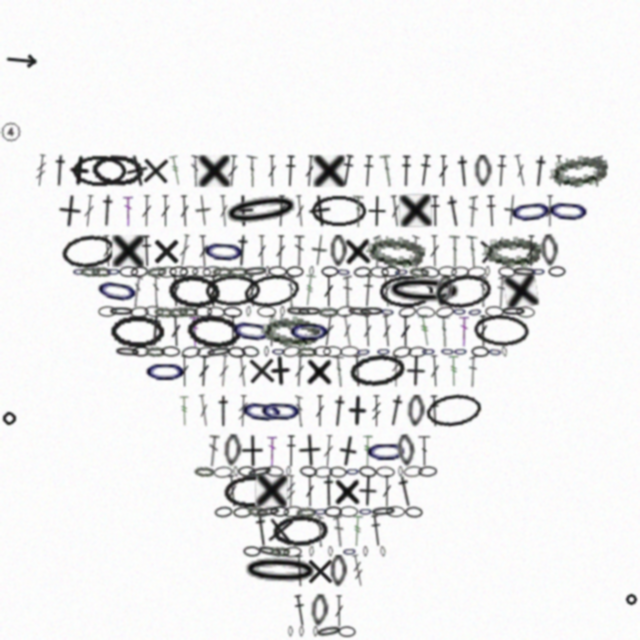chain: (220, 189, 303, 232), (240, 554, 321, 588), (384, 274, 465, 308), (547, 150, 610, 191), (434, 271, 494, 311), (242, 271, 301, 311), (424, 391, 483, 430), (348, 351, 406, 390), (365, 233, 426, 269), (185, 312, 242, 350), (60, 232, 117, 270), (482, 234, 542, 268), (473, 313, 530, 348), (167, 273, 222, 309), (261, 314, 320, 347), (223, 474, 280, 508), (204, 274, 262, 307), (93, 271, 142, 310), (272, 514, 328, 548), (91, 153, 145, 188), (228, 312, 276, 349), (311, 195, 366, 227), (238, 393, 286, 429), (110, 315, 164, 347), (379, 275, 433, 307), (507, 193, 555, 229), (72, 155, 126, 187), (545, 193, 592, 228), (201, 234, 247, 268), (258, 394, 304, 427), (364, 435, 409, 467), (143, 355, 188, 387), (287, 315, 332, 347), (433, 274, 455, 308), (396, 434, 416, 467), (310, 594, 329, 627), (223, 434, 242, 467), (540, 234, 559, 267), (407, 395, 425, 427), (474, 155, 492, 187), (330, 555, 347, 587), (330, 235, 347, 267), (246, 464, 274, 480), (315, 624, 343, 639), (256, 544, 284, 559), (254, 505, 282, 519), (205, 345, 233, 359), (346, 305, 374, 319), (370, 505, 397, 518), (285, 305, 312, 318), (242, 265, 269, 278), (114, 346, 141, 358), (511, 266, 538, 278), (108, 306, 135, 317), (296, 306, 323, 317), (358, 306, 385, 317), (500, 306, 527, 317), (181, 345, 201, 359), (392, 345, 412, 359), (435, 305, 455, 319), (420, 265, 440, 279), (247, 505, 268, 518), (146, 265, 167, 278), (398, 305, 417, 319), (283, 505, 303, 518), (403, 465, 423, 478), (144, 305, 164, 318), (179, 265, 199, 278), (202, 265, 222, 278), (265, 465, 284, 478), (299, 465, 318, 478), (358, 465, 377, 478), (241, 345, 260, 358), (282, 345, 301, 358), (336, 305, 355, 318), (130, 265, 149, 278), (296, 506, 316, 518), (213, 466, 233, 478), (154, 306, 174, 318), (168, 306, 188, 318), (318, 306, 338, 318), (409, 266, 429, 278), (283, 546, 302, 558), (214, 506, 233, 518), (233, 506, 252, 518), (314, 466, 333, 478), (376, 466, 395, 478), (196, 346, 215, 358), (227, 346, 246, 358), (408, 346, 427, 358), (130, 306, 149, 318), (223, 306, 242, 318), (416, 306, 435, 318), (516, 306, 535, 318), (158, 266, 177, 278), (192, 266, 211, 278), (353, 266, 372, 278), (370, 266, 389, 278), (467, 266, 486, 278), (270, 546, 290, 557), (194, 466, 214, 477), (145, 346, 165, 357), (297, 346, 317, 357), (178, 306, 198, 317), (80, 266, 100, 277), (91, 266, 111, 277), (212, 266, 232, 277), (228, 266, 248, 277), (405, 506, 423, 518), (329, 466, 347, 478), (207, 306, 225, 318), (451, 266, 469, 278), (498, 266, 516, 278), (270, 506, 289, 517), (339, 506, 358, 517), (386, 506, 405, 517), (418, 466, 437, 477), (161, 346, 180, 357), (323, 346, 342, 357), (340, 346, 359, 357), (98, 306, 117, 317), (257, 306, 276, 317), (485, 306, 504, 317), (119, 266, 138, 277), (169, 266, 188, 277), (268, 266, 287, 277), (381, 266, 400, 277), (438, 266, 457, 277), (338, 626, 356, 637), (243, 546, 261, 557), (324, 506, 342, 517), (238, 466, 256, 477), (132, 346, 150, 357), (313, 346, 331, 357), (471, 346, 489, 357), (194, 306, 212, 317), (286, 266, 304, 277), (321, 266, 339, 277), (548, 266, 566, 277), (487, 346, 503, 358), (467, 306, 483, 318), (356, 346, 371, 358), (380, 306, 395, 318), (336, 266, 351, 278), (394, 266, 409, 278), (342, 546, 357, 557), (313, 506, 328, 517), (358, 506, 373, 517), (345, 466, 360, 477), (271, 346, 286, 357), (376, 346, 391, 357), (421, 346, 436, 357), (440, 346, 455, 357), (453, 346, 468, 357), (452, 306, 467, 317), (72, 266, 87, 277), (106, 266, 121, 277), (531, 266, 546, 277), (501, 346, 508, 357), (380, 546, 386, 557), (233, 466, 239, 477), (288, 626, 293, 637), (299, 626, 304, 637), (313, 626, 318, 637), (309, 546, 314, 557), (328, 546, 333, 557), (363, 546, 368, 557), (286, 466, 291, 477), (398, 466, 403, 477), (264, 346, 269, 357), (246, 306, 251, 317), (280, 306, 285, 317), (265, 266, 270, 277), (309, 266, 314, 277), (485, 266, 490, 277)
double: (512, 154, 529, 187), (321, 314, 336, 347), (340, 314, 355, 347), (177, 234, 192, 267), (379, 154, 394, 187), (197, 394, 211, 427), (332, 355, 346, 387), (82, 195, 96, 227), (226, 475, 239, 507), (207, 435, 220, 467), (322, 435, 335, 467), (418, 435, 431, 467), (236, 355, 249, 387), (380, 275, 393, 307), (101, 235, 114, 267), (197, 235, 210, 267), (466, 235, 479, 267), (351, 195, 364, 227), (389, 195, 402, 227), (226, 155, 239, 187), (333, 515, 345, 547), (198, 355, 210, 387), (218, 355, 230, 387), (429, 355, 441, 387), (170, 315, 182, 347), (381, 315, 393, 347), (438, 315, 450, 347), (131, 275, 143, 307), (246, 275, 258, 307), (448, 235, 460, 267), (218, 195, 230, 227), (275, 195, 287, 227), (294, 195, 306, 227), (246, 155, 258, 187), (304, 155, 316, 187), (179, 355, 190, 387), (294, 355, 305, 387), (189, 315, 200, 347), (266, 315, 277, 347), (362, 315, 373, 347), (400, 315, 411, 347), (170, 275, 181, 307), (208, 275, 219, 307), (323, 275, 334, 307), (275, 235, 286, 267), (294, 235, 305, 267), (429, 235, 440, 267), (141, 195, 152, 227), (160, 195, 171, 227), (179, 195, 190, 227), (438, 155, 449, 187), (554, 155, 565, 187), (334, 595, 344, 627), (305, 475, 315, 507), (382, 475, 392, 507), (267, 435, 277, 467), (315, 395, 325, 427), (459, 315, 469, 347), (478, 315, 488, 347), (257, 235, 267, 267), (526, 235, 536, 267), (123, 195, 133, 227), (468, 195, 478, 227), (545, 195, 555, 227), (190, 155, 200, 187), (267, 155, 277, 187), (593, 155, 603, 187), (295, 395, 304, 427), (343, 275, 352, 307), (497, 275, 506, 307), (316, 515, 324, 547), (469, 355, 477, 387), (152, 275, 160, 307), (287, 275, 295, 307), (479, 275, 487, 307), (373, 235, 381, 267), (412, 235, 420, 267)
half_double: (384, 393, 408, 428), (394, 474, 417, 508), (328, 394, 350, 428), (443, 194, 465, 228), (529, 154, 551, 188), (145, 314, 166, 347), (232, 234, 253, 267), (97, 194, 118, 227), (252, 514, 272, 547), (50, 154, 70, 187), (214, 395, 233, 427), (454, 155, 473, 187), (320, 475, 338, 507), (339, 154, 356, 187), (292, 594, 308, 627), (417, 154, 433, 187), (369, 514, 384, 547), (361, 275, 375, 307), (361, 155, 375, 187), (293, 555, 306, 587), (428, 395, 441, 427), (351, 355, 364, 387), (140, 235, 153, 267), (485, 195, 498, 227), (284, 155, 297, 187), (495, 155, 508, 187), (285, 435, 297, 467), (227, 315, 239, 347), (429, 195, 441, 227), (400, 155, 412, 187)
noise: (5, 53, 39, 68), (0, 120, 22, 143), (2, 411, 17, 426), (625, 593, 637, 605)
single: (330, 433, 366, 469), (503, 273, 539, 309), (263, 513, 298, 548), (62, 153, 97, 188), (475, 234, 509, 268), (255, 474, 288, 507), (351, 474, 384, 507), (341, 394, 374, 427), (245, 354, 278, 387), (264, 354, 297, 387), (399, 354, 432, 387), (399, 194, 432, 227), (139, 154, 172, 187), (122, 153, 152, 189), (304, 555, 336, 587), (112, 235, 144, 267), (150, 235, 182, 267), (361, 195, 393, 227), (198, 155, 230, 187), (313, 155, 345, 187), (343, 234, 373, 267), (333, 475, 362, 507), (305, 355, 334, 387), (56, 194, 83, 228), (306, 194, 333, 228), (297, 434, 322, 467), (230, 195, 255, 227), (240, 435, 264, 467), (310, 234, 329, 267), (194, 194, 213, 227), (503, 194, 521, 227)
treble: (350, 554, 366, 587), (417, 314, 433, 347), (168, 154, 184, 187), (302, 274, 317, 307), (34, 154, 48, 187), (351, 515, 364, 547), (237, 395, 249, 427), (448, 355, 460, 387), (362, 435, 373, 467), (179, 395, 190, 427), (371, 395, 382, 427), (286, 475, 296, 507), (391, 355, 401, 387)
